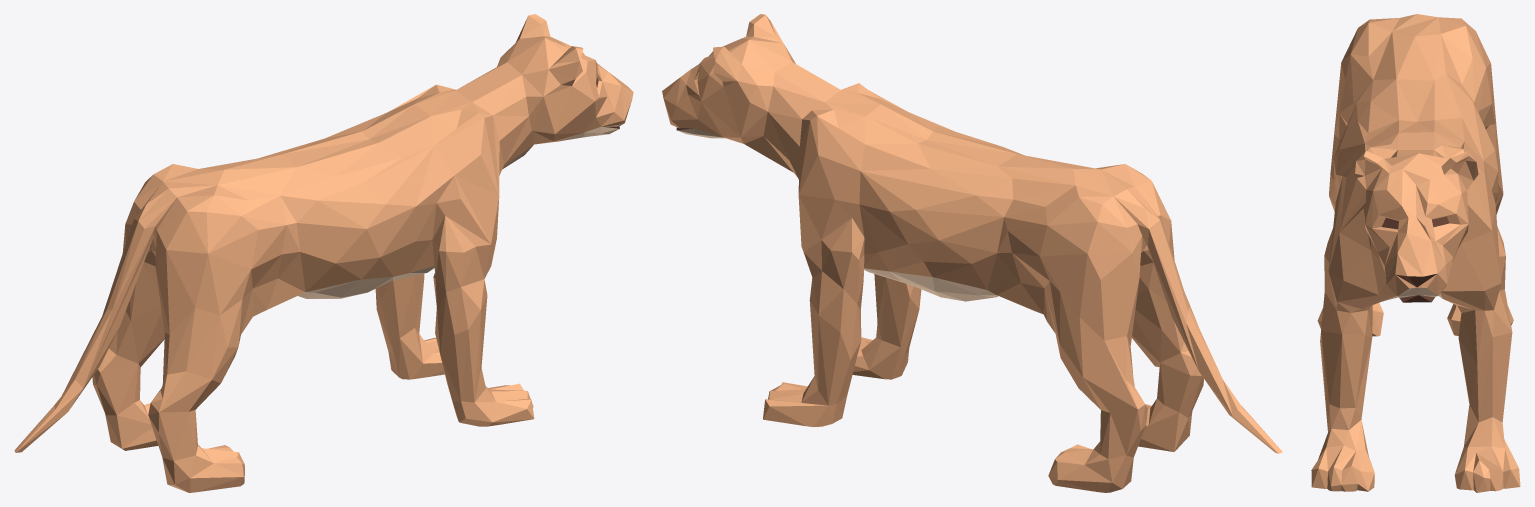
File: lowpoly_lion.fbx
3 renders of one model, left to right at view 1: azimuth 30°, elevation 25°; view 2: azimuth 150°, elevation 25°; view 3: azimuth 270°, elevation 25°, orthographic. The views are drawn at different scales.
Parts seen in each view (by area): view 1: Lion_body.004; view 2: Lion_body.004; view 3: Lion_body.004.
Part boxes in pixels (x1,y1,x2,y2): Lion_body.004: [14, 14, 633, 492]; Lion_body.004: [662, 14, 1282, 492]; Lion_body.004: [1311, 14, 1520, 492].
Size of the model in its own units: 4.43 by 2.32 by 1.18.
